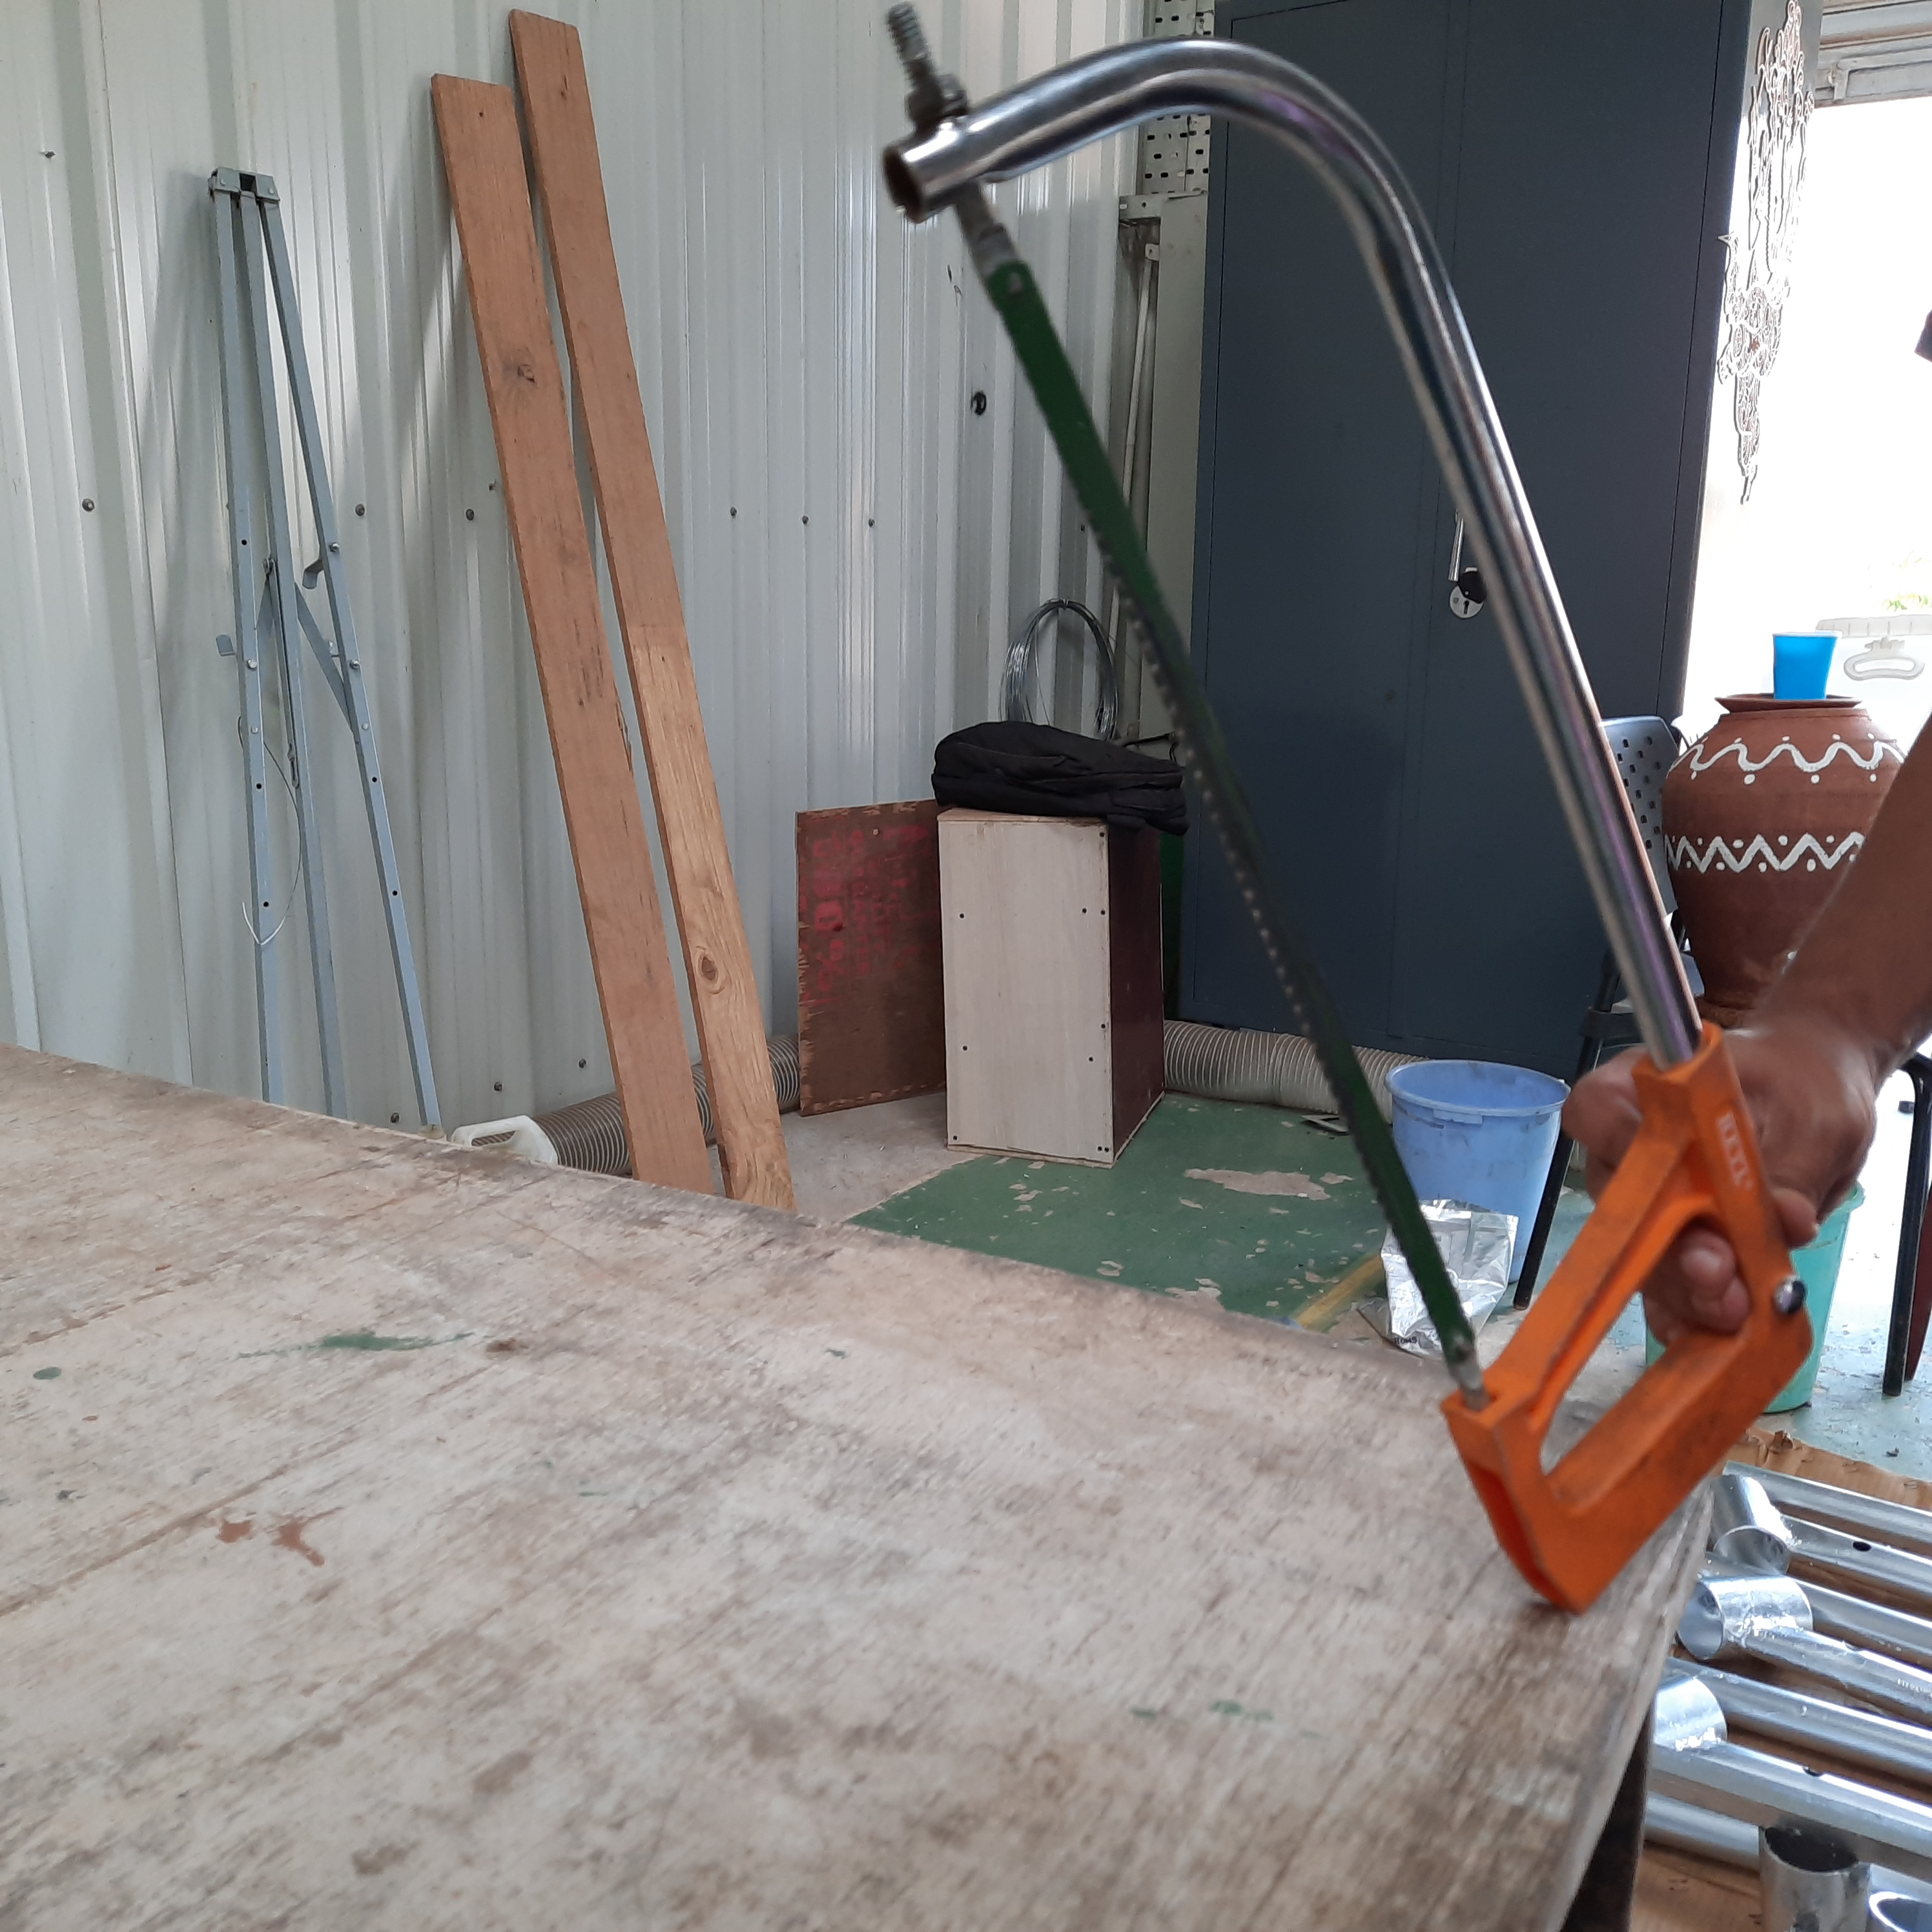Hexaframe: (862, 14, 1844, 1614)
